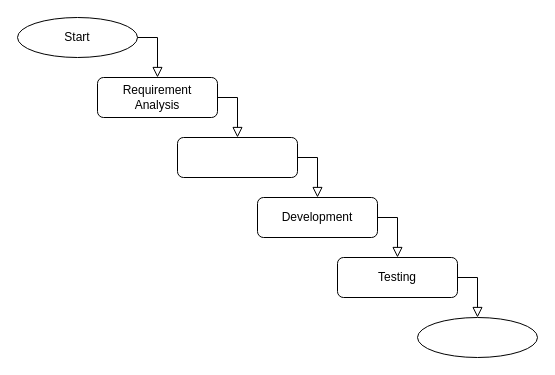
Image size: 555x375. Some labels were removed from this diagram. Here are the shapes that lost their labels. From the top down, the centre of each, then its label:
At point 237,157: "Design".
At point 477,337: "End".
